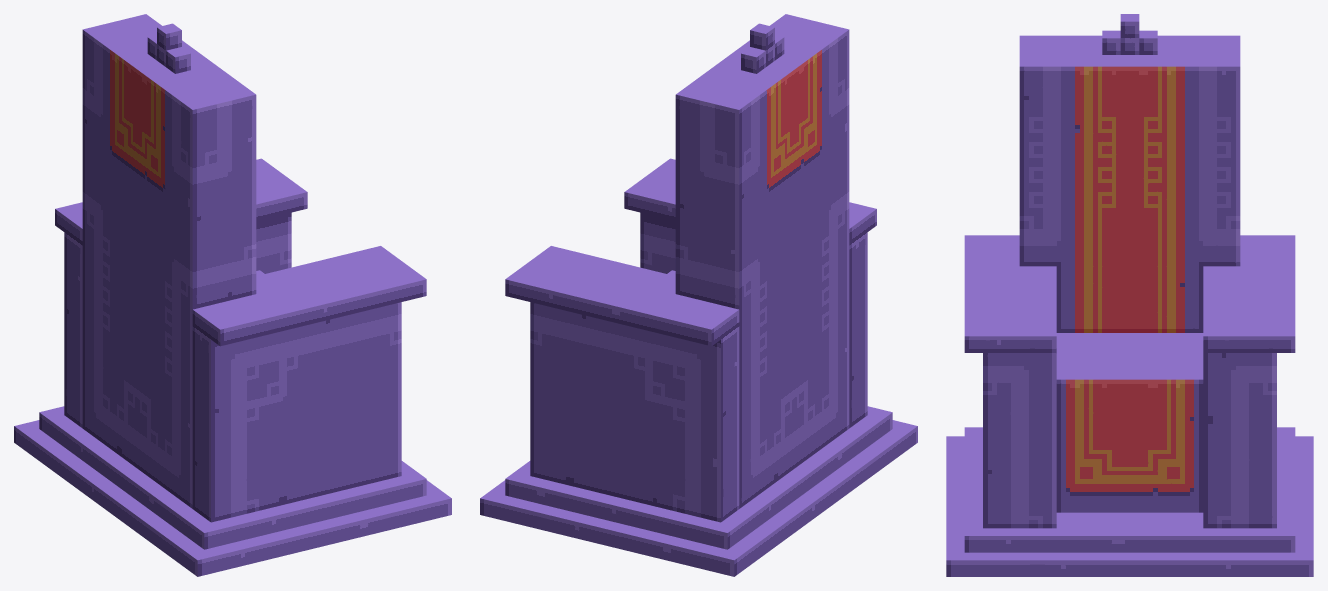
Rendered from throne_aao.fezao.glb.
The picture shows the model from 3 angles, left to right: view 1: azimuth 30°, elevation 25°; view 2: azimuth 150°, elevation 25°; view 3: azimuth 270°, elevation 25°; orthographic projection.
Visible parts, largest first — view 1: THRONE_AAO; view 2: THRONE_AAO; view 3: THRONE_AAO.
Part boxes in pixels (x1,y1,x2,y2): THRONE_AAO: (14,14,451,576); THRONE_AAO: (480,14,917,576); THRONE_AAO: (946,14,1313,576).
Bounding box in the file's own units: 4 × 7 × 5.
Materials: 1 (1 with a texture image).
